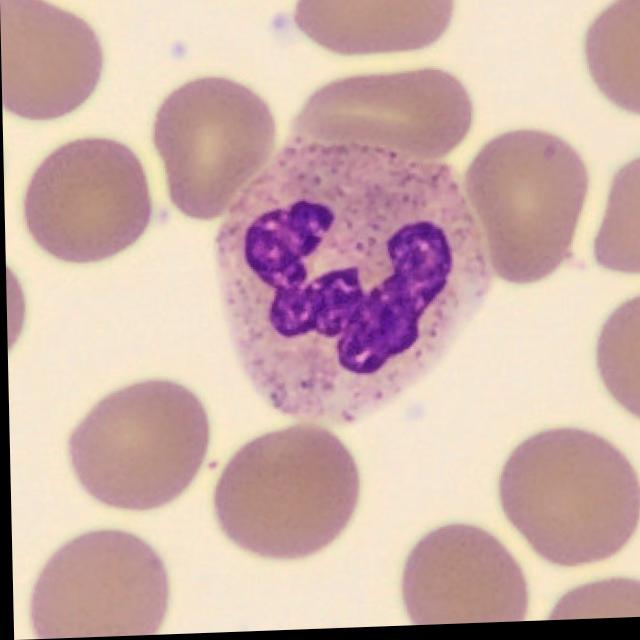Neutrofilo segmentado: (213, 142, 491, 427)
